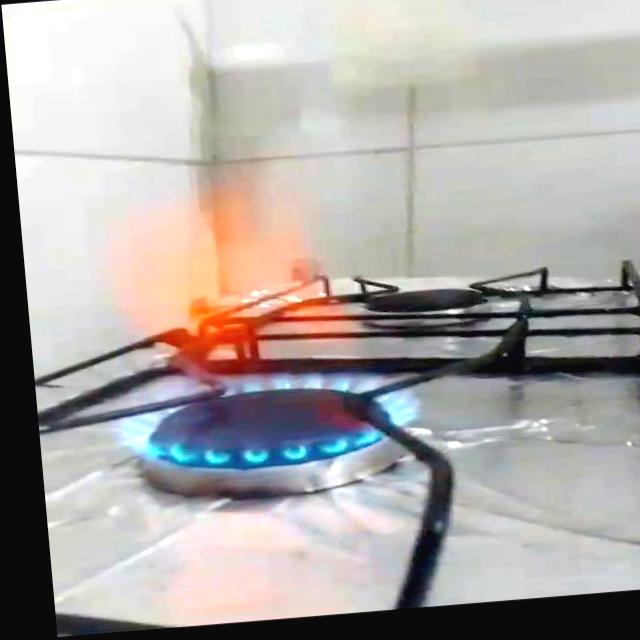helmet: (76, 148, 419, 478)
